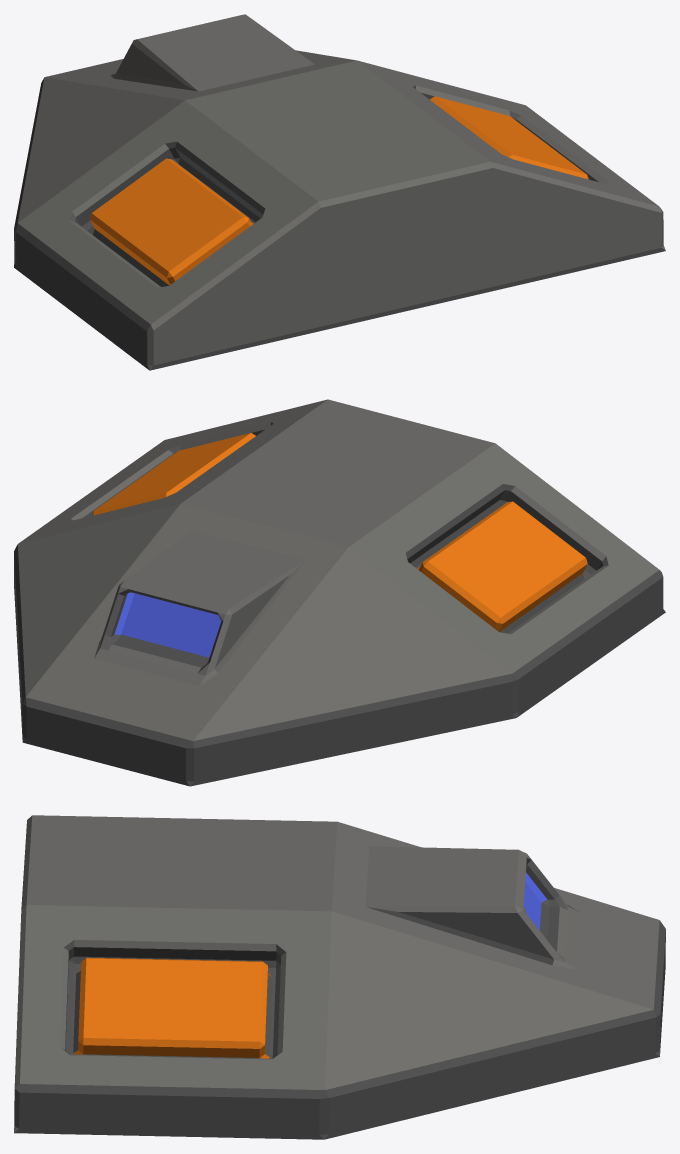
File: portfolio-animation.glb
The picture shows the model from 3 angles, top to bottom: view 1: azimuth 30°, elevation 25°; view 2: azimuth 150°, elevation 25°; view 3: azimuth 270°, elevation 25°; orthographic projection. The views are drawn at different scales.
Visible parts, largest first — view 1: Spaceship; view 2: Spaceship; view 3: Spaceship.
Boxes of the visible parts, <box> form: Spaceship: <box>14,14,665,370</box>; Spaceship: <box>14,399,665,786</box>; Spaceship: <box>14,815,665,1139</box>.
Size of what is drawn, in the model's own units: 2.03 by 0.5004 by 2.04.
